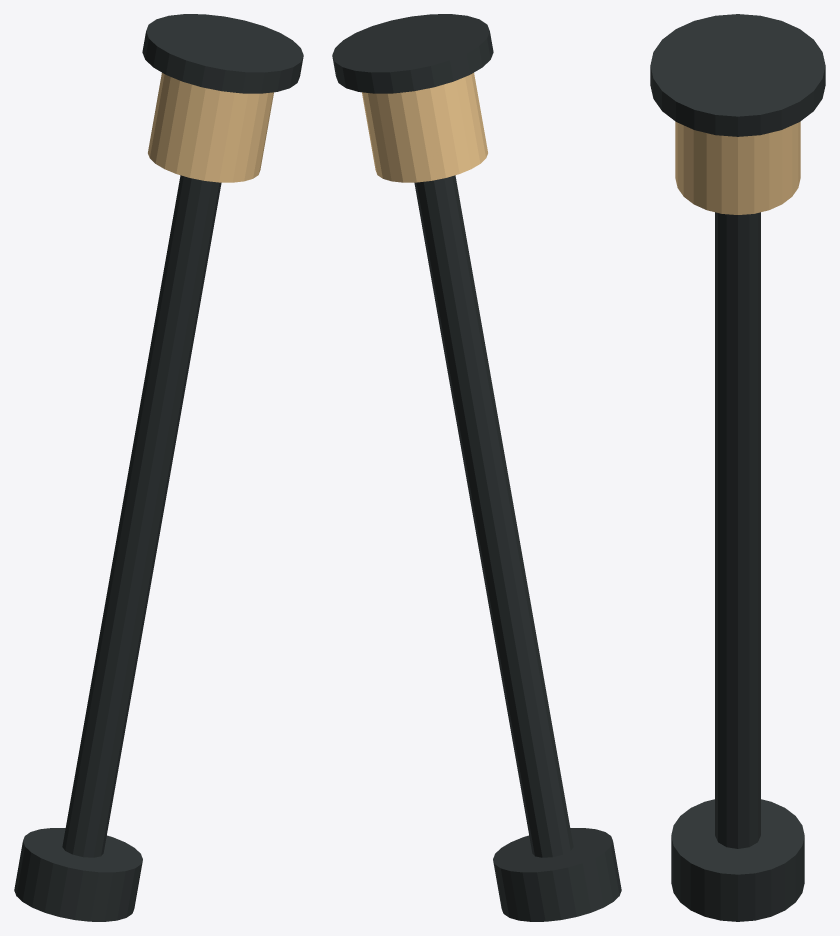
The model's file is SAF_LAMP_BROKEN_01.fbx.
3 renders of one model, left to right at view 1: azimuth 30°, elevation 25°; view 2: azimuth 150°, elevation 25°; view 3: azimuth 270°, elevation 25°, orthographic. The views are drawn at different scales.
Visible parts, largest first — view 1: SAF_LAMP_BROKEN_01; view 2: SAF_LAMP_BROKEN_01; view 3: SAF_LAMP_BROKEN_01.
Boxes of the visible parts, bbox=[...] form: SAF_LAMP_BROKEN_01: bbox=[14, 14, 303, 921]; SAF_LAMP_BROKEN_01: bbox=[332, 14, 621, 921]; SAF_LAMP_BROKEN_01: bbox=[650, 14, 825, 921].
Size of the model in its own units: 82.04 by 245 by 42.
